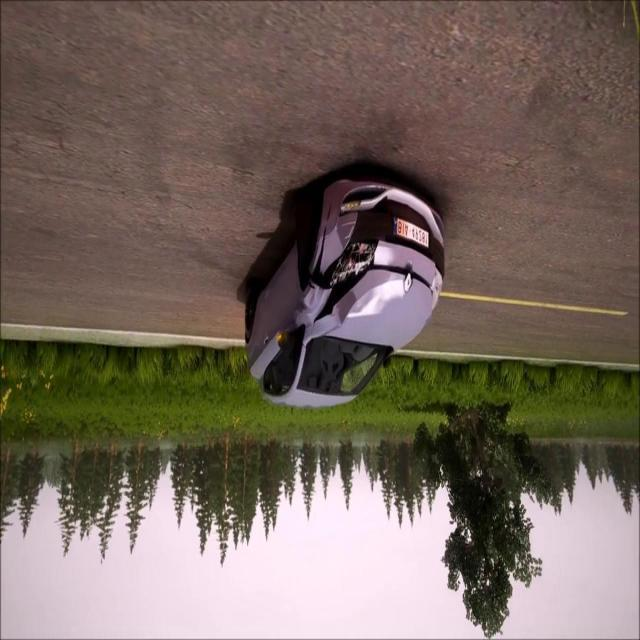moderate: (242, 166, 448, 411)
